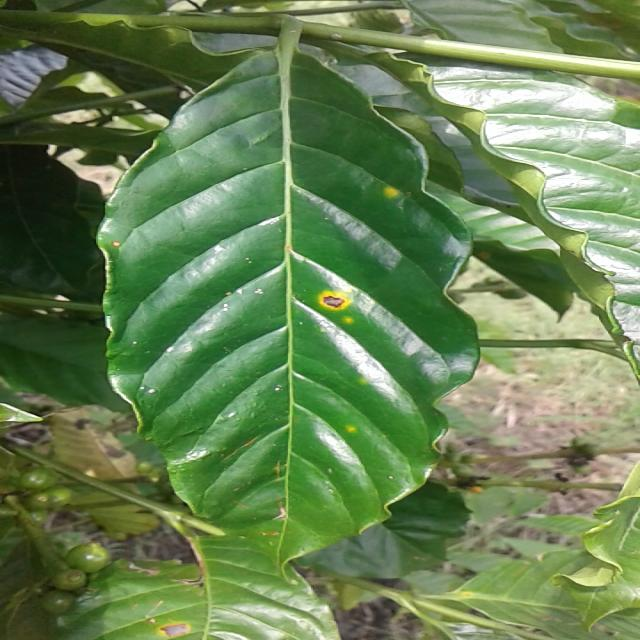Enfermedad-Roya: (96, 52, 481, 569)
